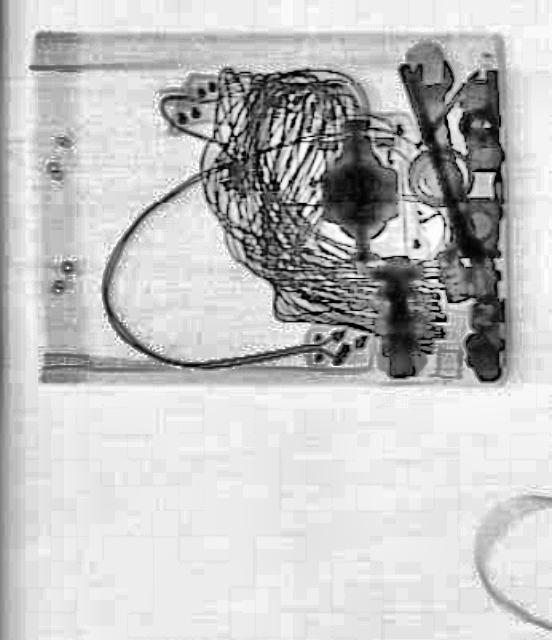Wrench: (404, 52, 493, 278)
